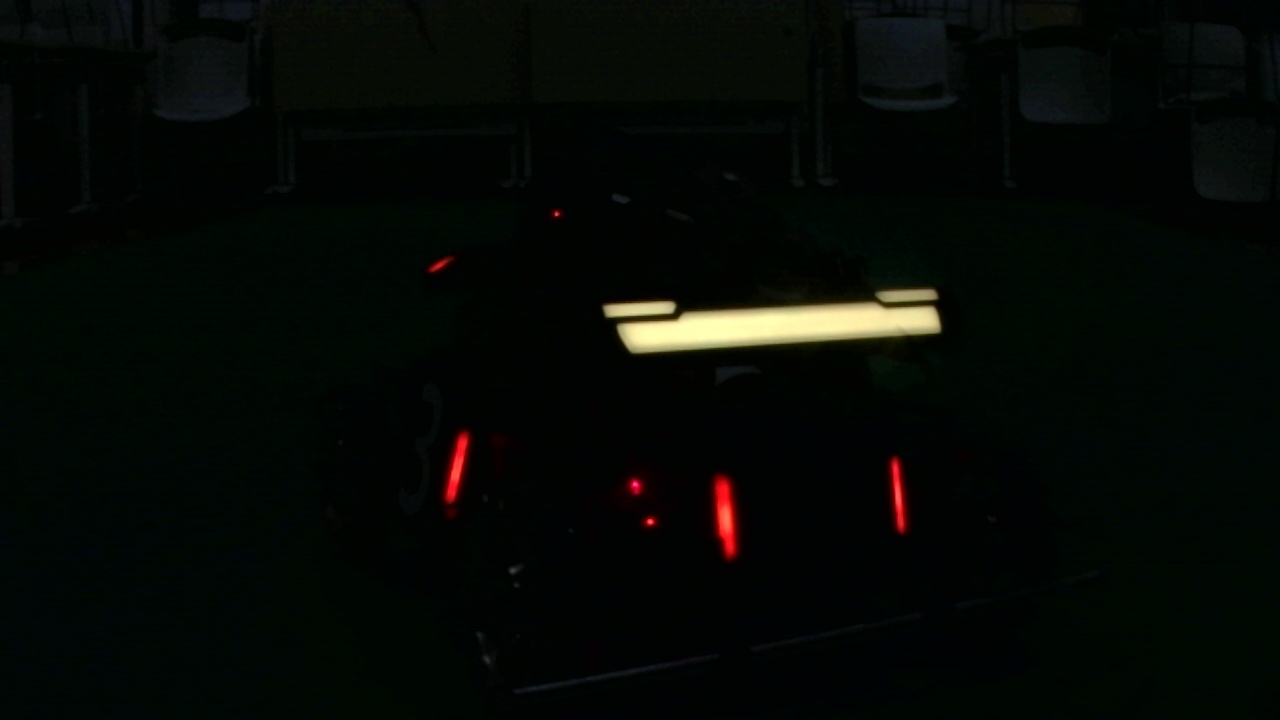lamp: (712, 460, 743, 558), (442, 429, 473, 506), (889, 450, 909, 537)
notpair1: (444, 425, 740, 557)
pair1: (714, 455, 907, 560)
